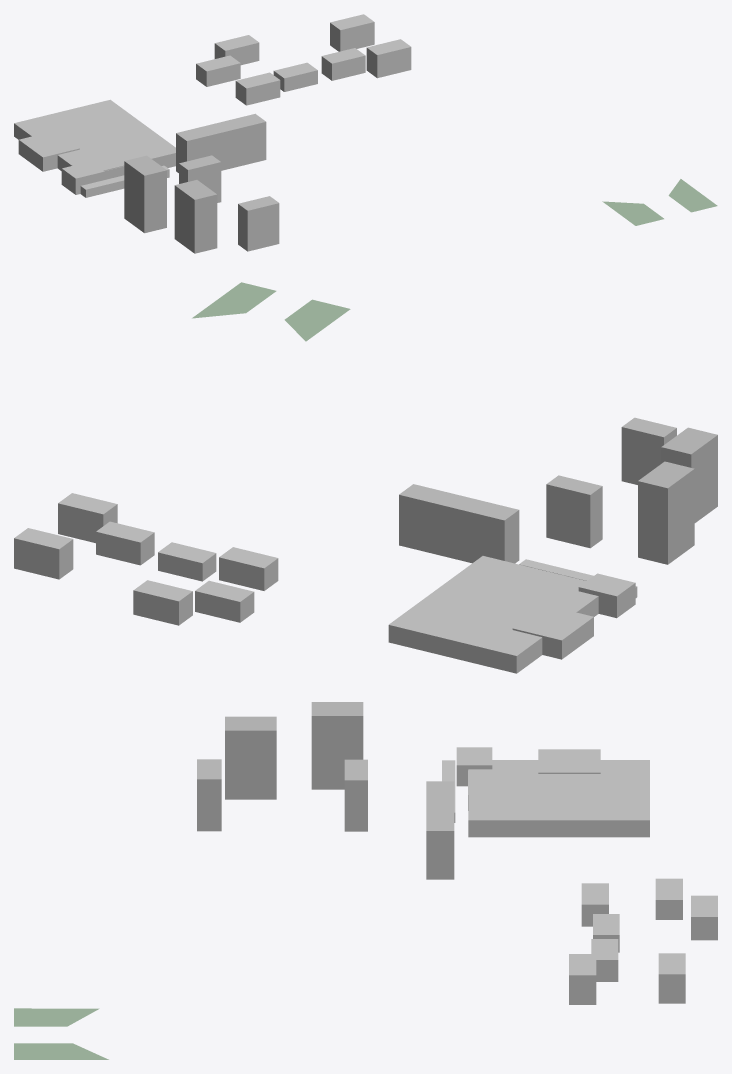
File: 125_74_mid.glb
3 renders of one model, top to bottom at view 1: azimuth 30°, elevation 25°; view 2: azimuth 150°, elevation 25°; view 3: azimuth 270°, elevation 25°, orthographic. The views are drawn at different scales.
Bounding box in the file's own units: 497 × 58.36 × 504.
